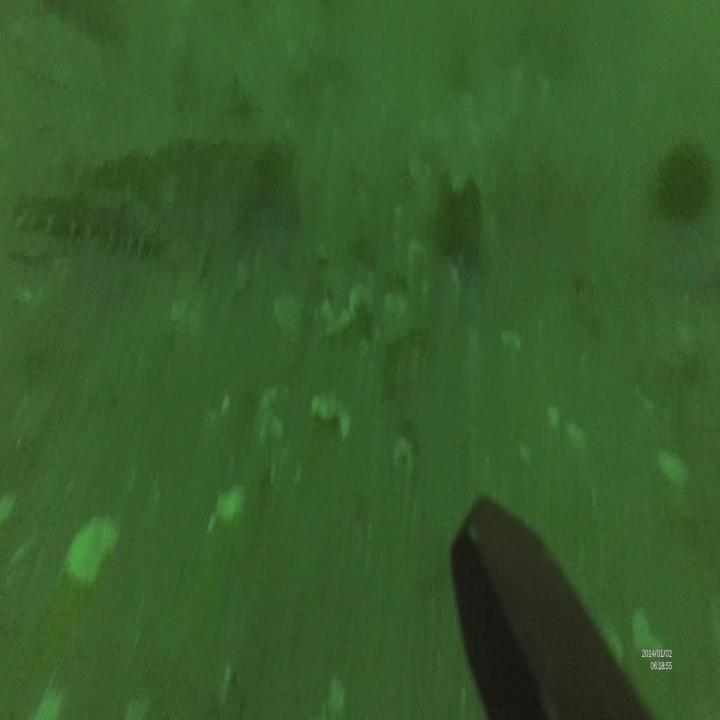echinus: (656, 134, 714, 223), (432, 180, 489, 268)
holothurian: (11, 188, 167, 262)
